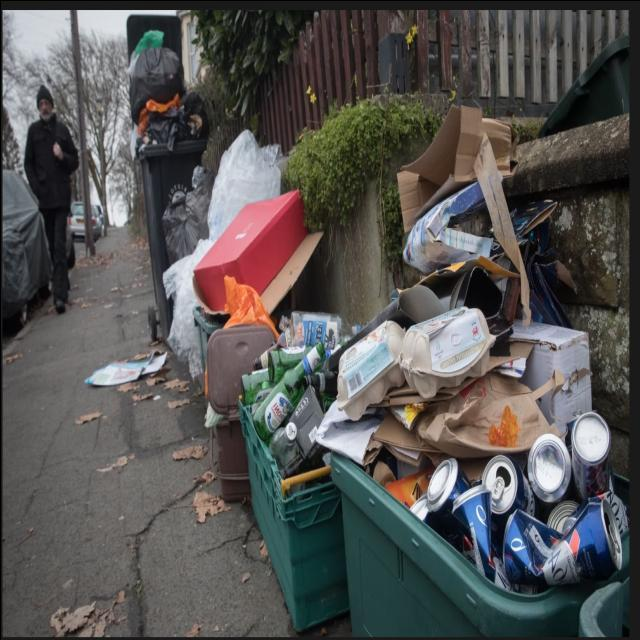Garbage: (241, 135, 628, 592)
Glass_bottle: (252, 339, 325, 442), (290, 310, 358, 351), (267, 344, 310, 383), (269, 421, 296, 469), (240, 367, 274, 404), (302, 369, 336, 396)
Plastic_wraper: (488, 404, 519, 446)
Tin_box: (546, 498, 578, 531)
can: (502, 496, 621, 583), (451, 483, 509, 588), (481, 454, 534, 541), (425, 456, 469, 547), (570, 410, 610, 498), (526, 431, 570, 502)
